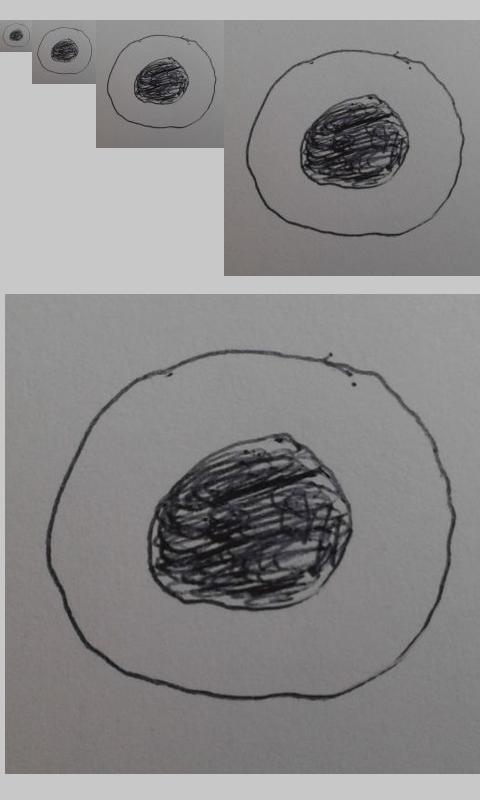radio_button: (42, 346, 459, 705), (244, 48, 466, 239), (106, 33, 217, 130), (36, 26, 94, 75), (2, 22, 31, 48)
